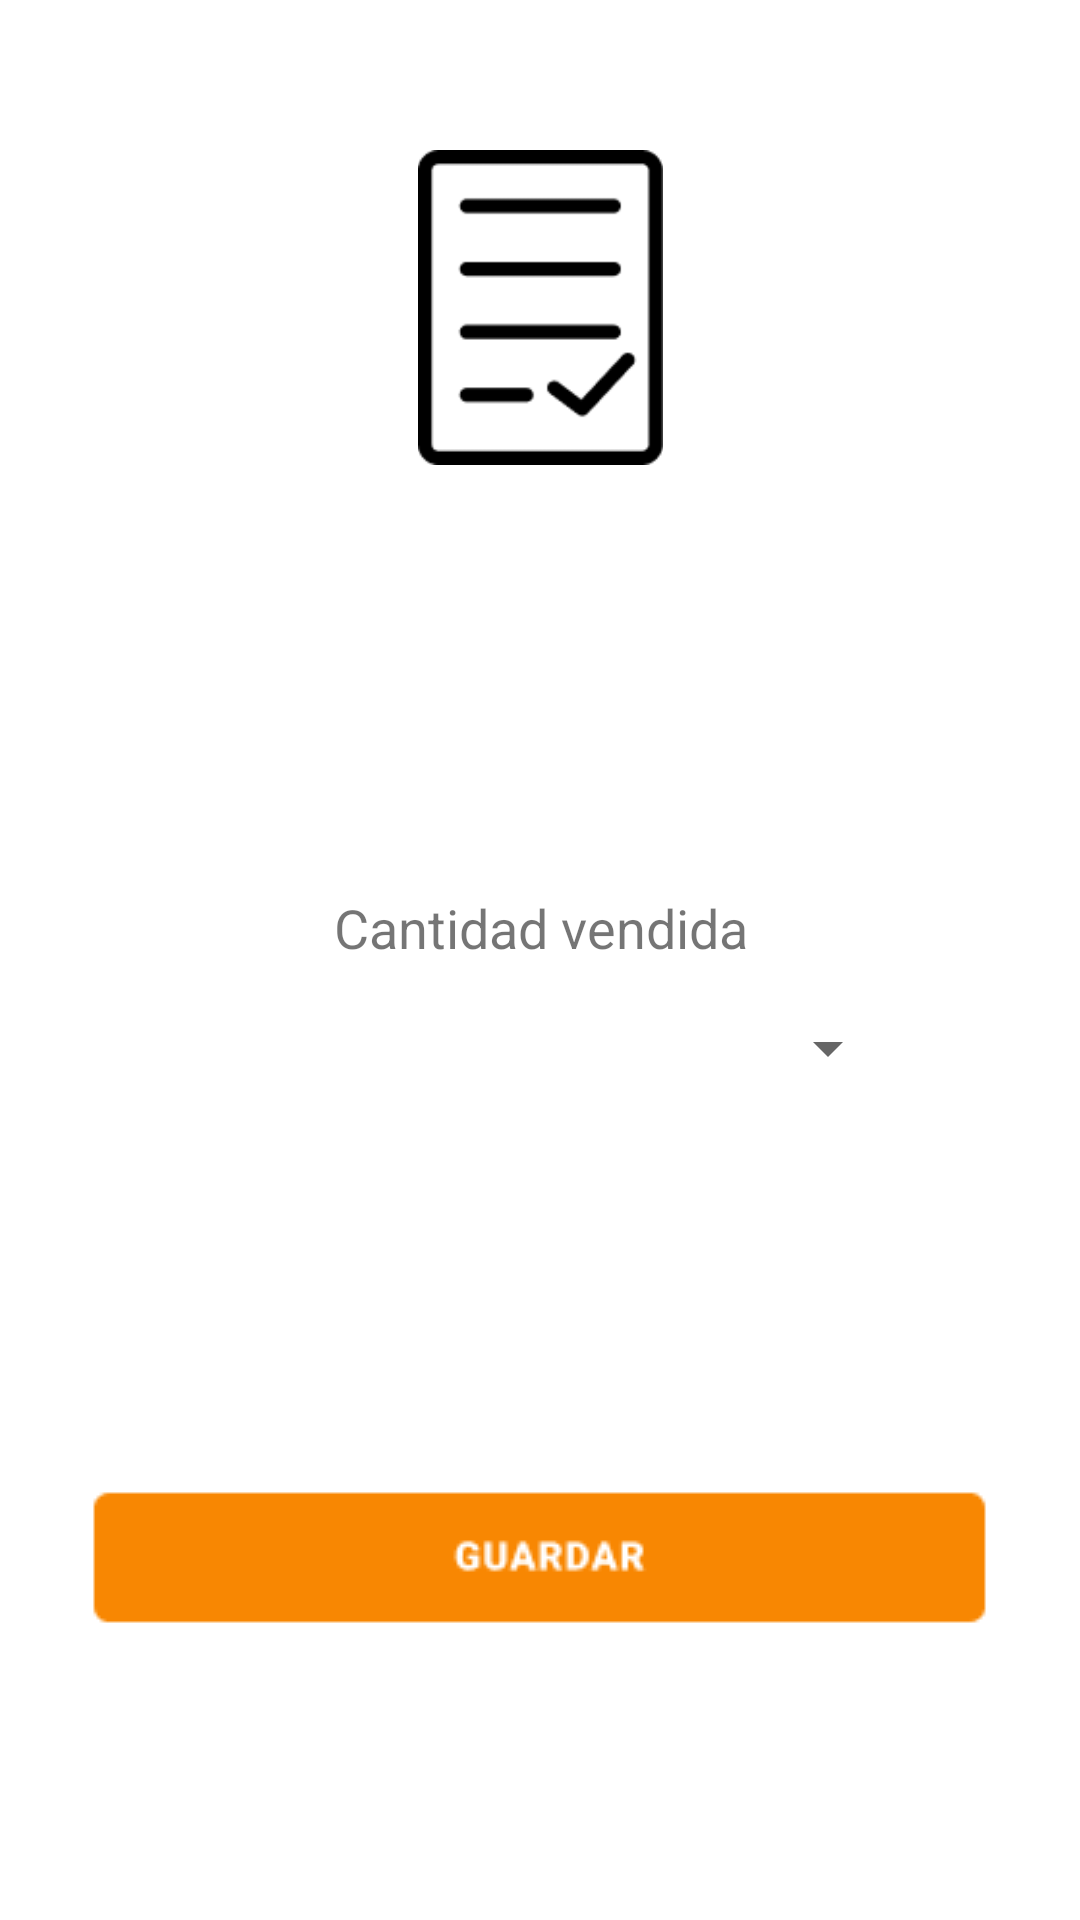

Icons on this 1080 × 1920 Android screen, each with the point to tap as (x,y):
reportes: (540,307)
